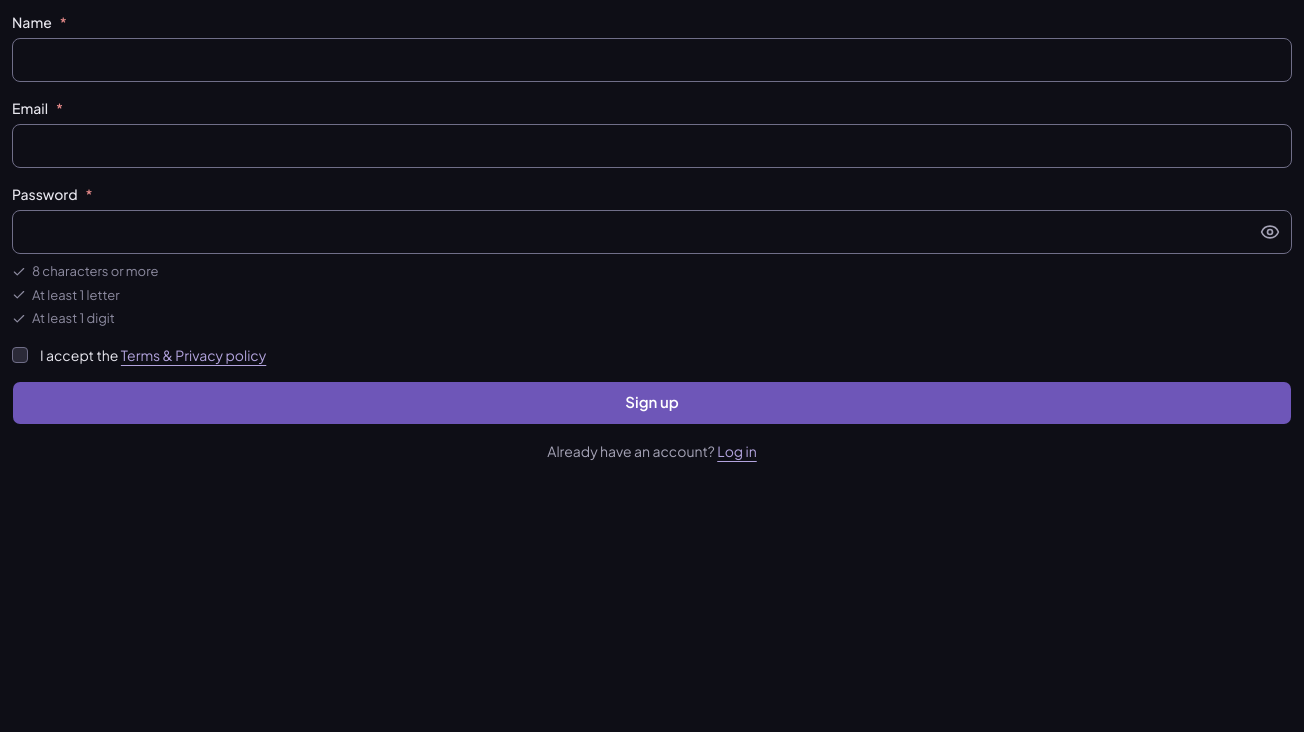
Test case: a backend error on name is shown under that field and nobody is logged in
The image size is (1304, 732).
In the field labelled "Name *": (652, 60) 12,38 -> 1292,82, type "Mona Ali"
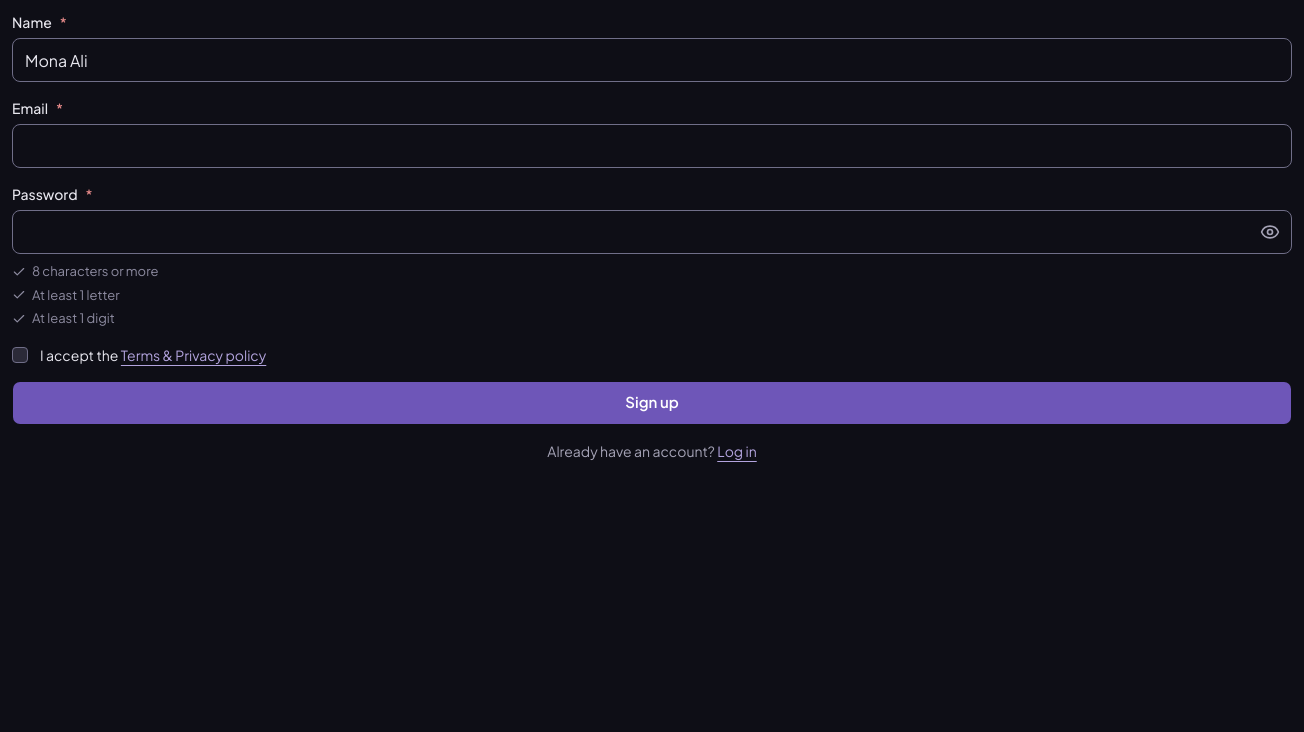
In the field labelled "Email *": (652, 146) 12,124 -> 1292,168, type "mona@example.com"
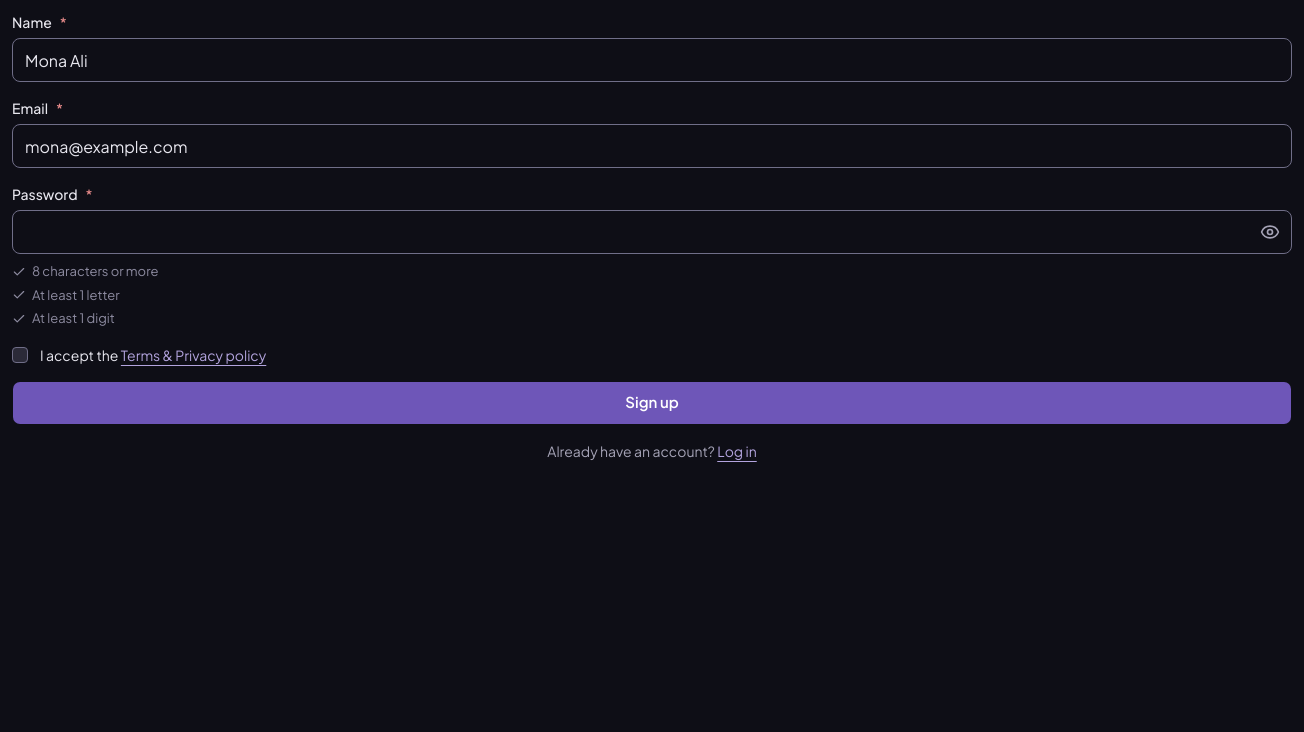
In the password field labelled "Password *": (652, 232) 12,210 -> 1292,254, type "Secret123"
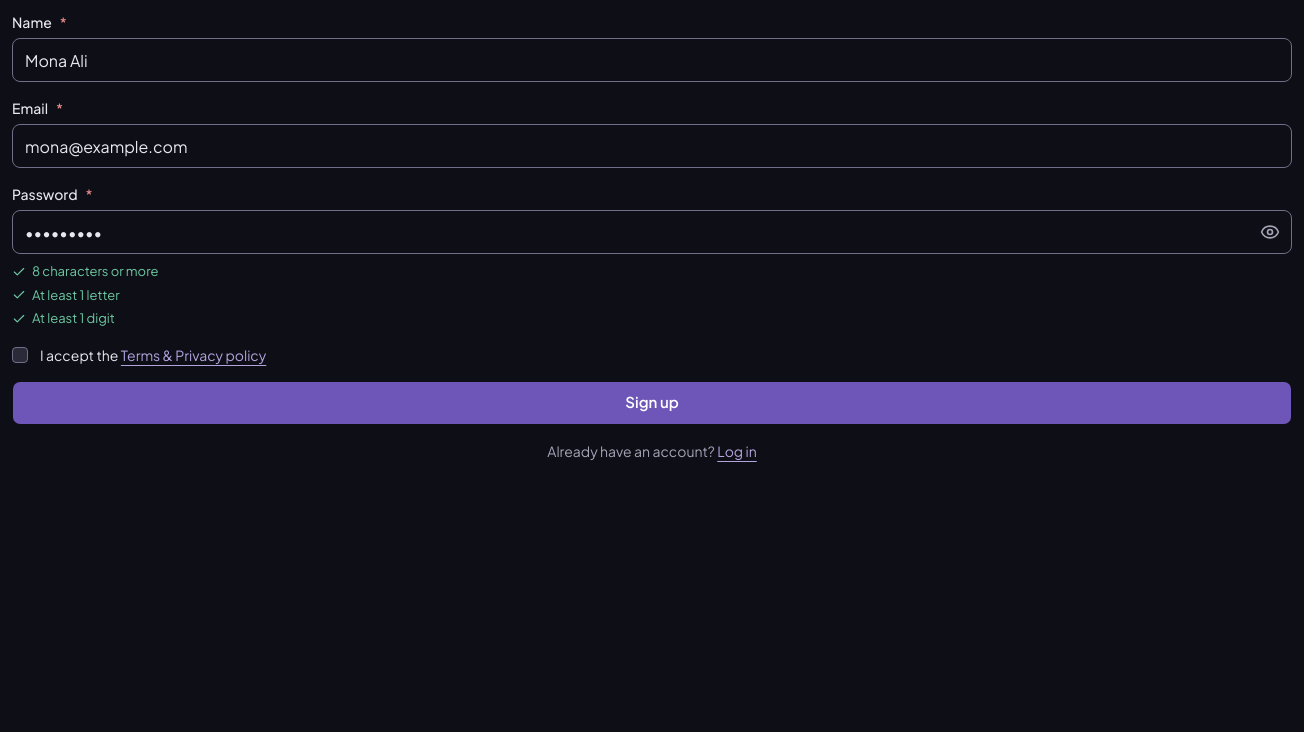
Click the checkbox: (20, 354) 12,346 -> 28,362
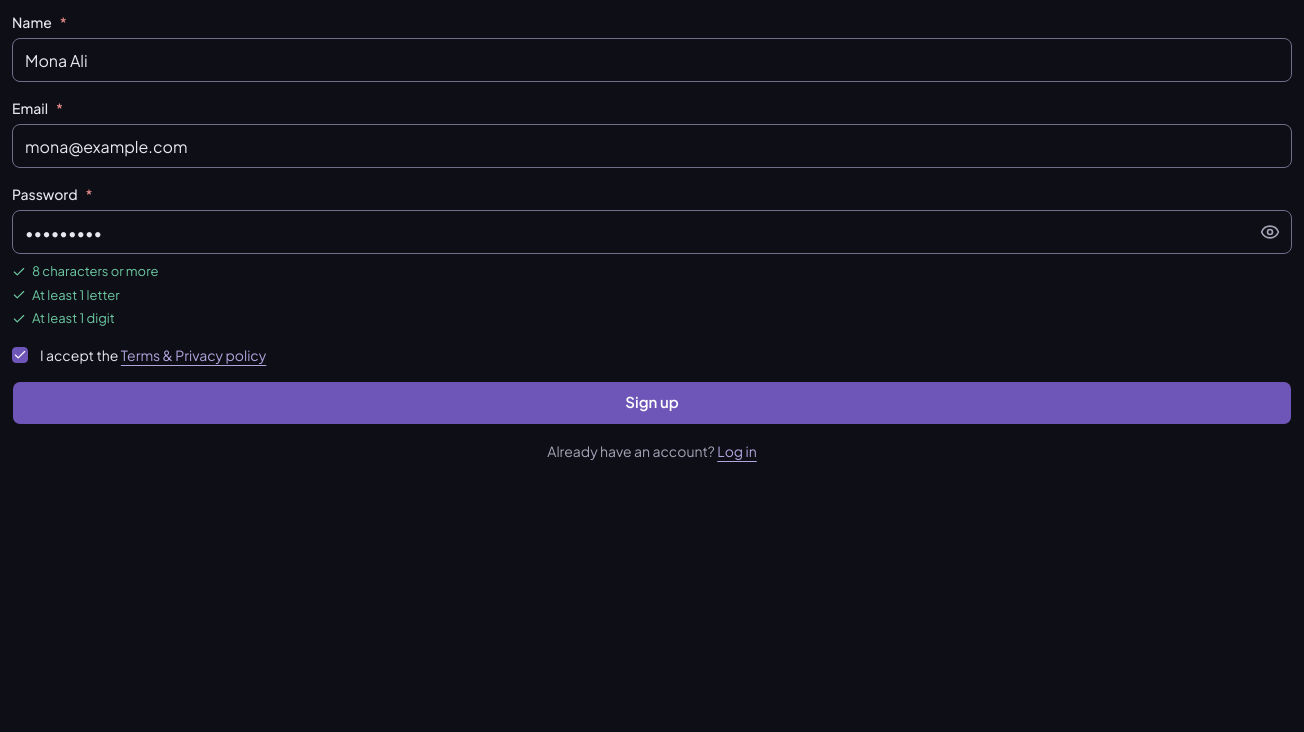
Click the button "Sign up": (652, 402) 12,380 -> 1292,424
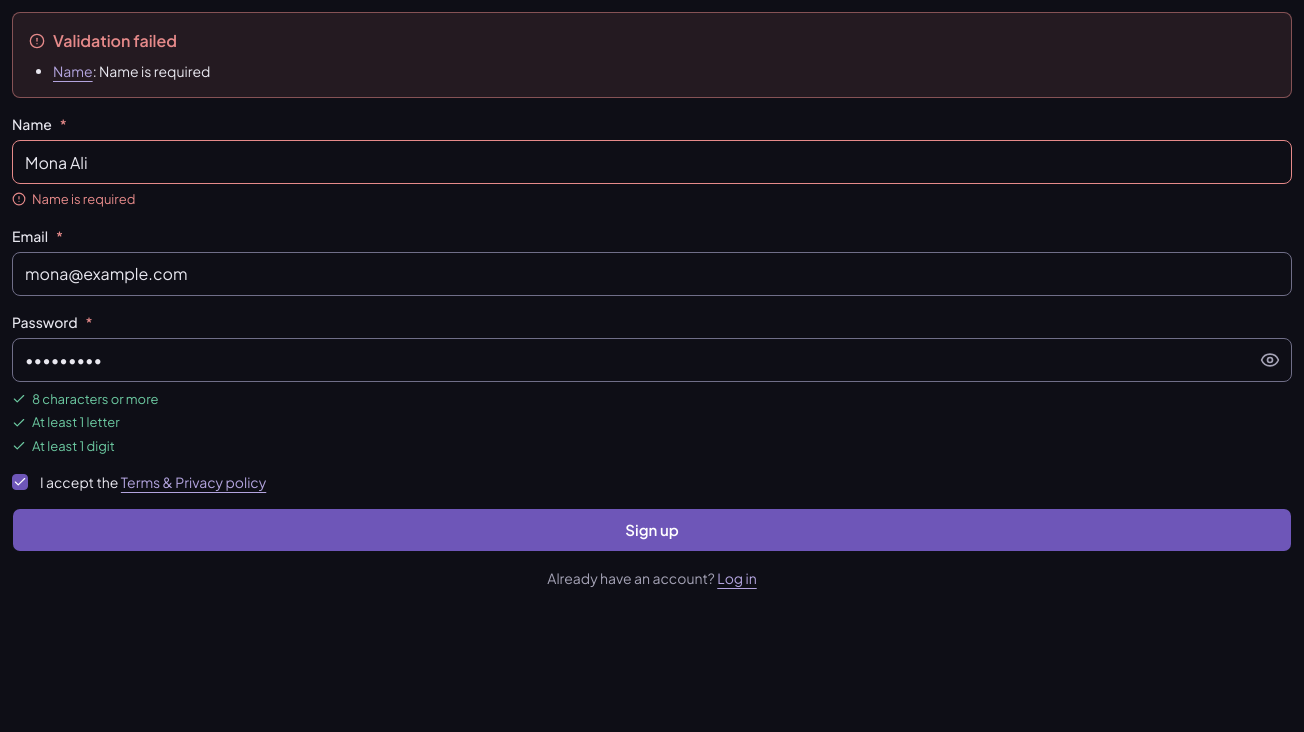
Check: the message "Validation failed Name : Name is required" is shown, box 12,12 -> 1292,98
Check: the element showing "Name is required" is shown, box 12,191 -> 135,207
